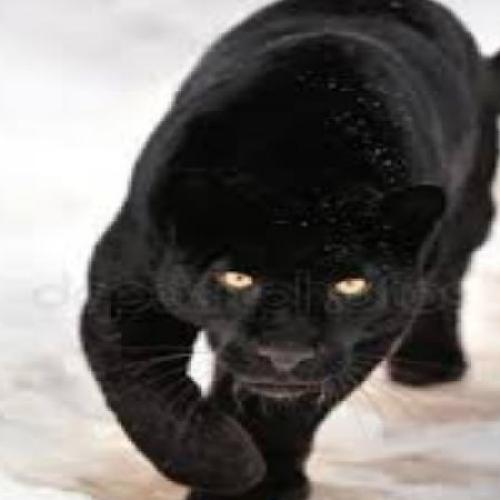panther-endangered: (96, 3, 493, 450)
